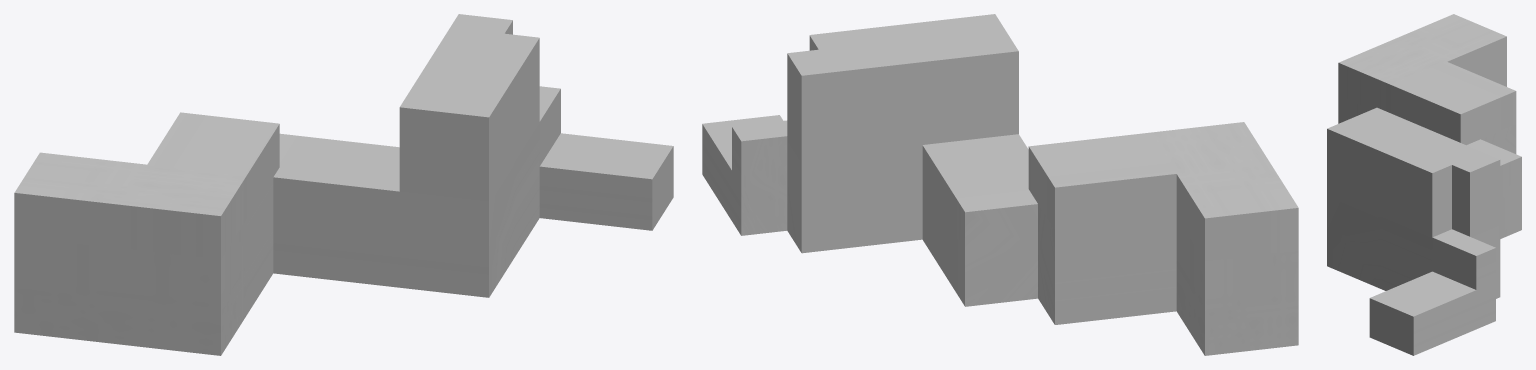
File: Building.FBX
3 views of the same model, side by side, from view 1: azimuth 30°, elevation 25°; view 2: azimuth 150°, elevation 25°; view 3: azimuth 270°, elevation 25° (orthographic). The views are drawn at different scales.
Parts seen in each view (by area): view 1: Building; view 2: Building; view 3: Building.
Part boxes in pixels (x1,y1,x2,y2): Building: [14, 14, 673, 355]; Building: [702, 14, 1298, 355]; Building: [1327, 14, 1521, 355].
Size of the model in its own units: 6251 by 1704 by 2187.
